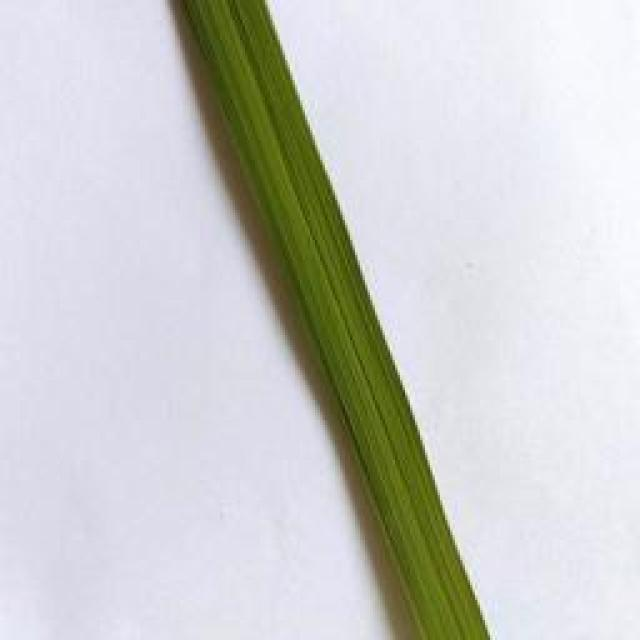Healthy-Plant: (161, 0, 504, 640)
